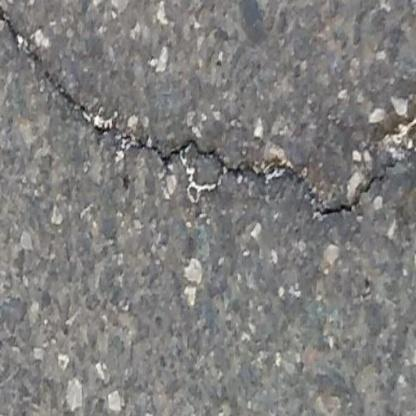Cracks: (0, 0, 416, 225)
